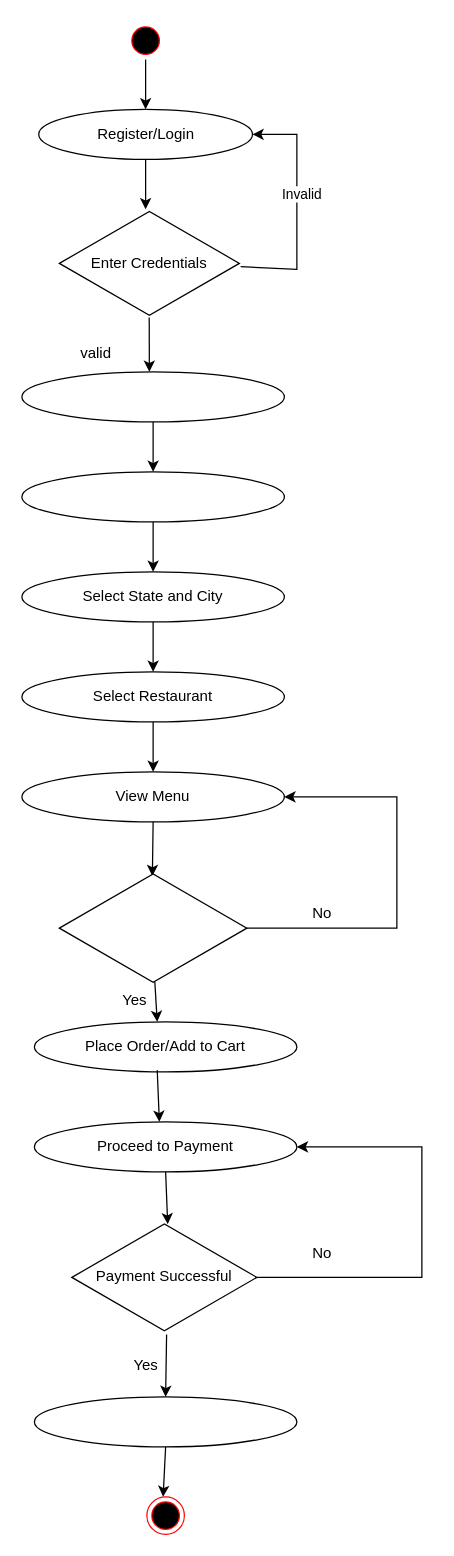
The diagram is 454 pixels wide and 1556 high, and some of its shapes have lost their labels. Each missing label, with the centre of its shape:
"Enter PNR/Train Number" belongs at (152,496).
"Items Selected?" belongs at (152,927).
"Order Placed" belongs at (165,1421).
"View Dashboard" belongs at (152,396).
